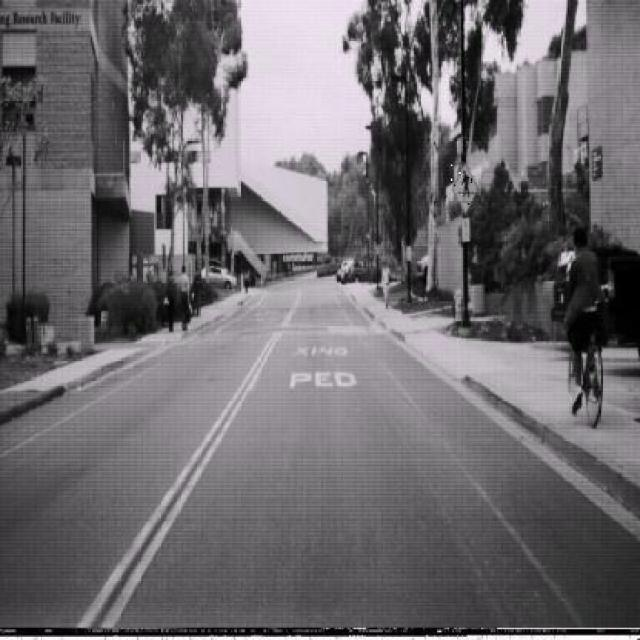pedestrianCrossing: (451, 162, 478, 215)
